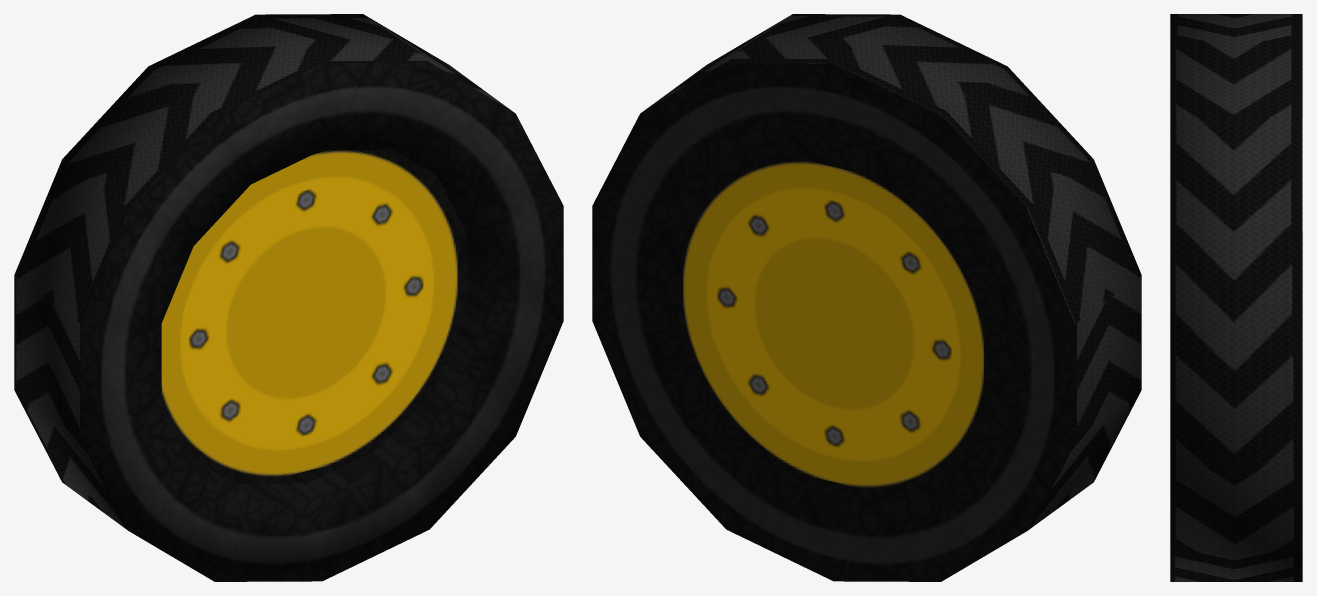
File: Big Yellow.FBX
3 views of the same model, side by side, from view 1: azimuth 30°, elevation 25°; view 2: azimuth 150°, elevation 25°; view 3: azimuth 270°, elevation 25° (orthographic).
Parts seen in each view (by area): view 1: Circle; view 2: Circle; view 3: Circle.
Boxes of the visible parts, x1,y1,x2,y2 form: Circle: (14, 14, 563, 581); Circle: (592, 14, 1141, 581); Circle: (1170, 14, 1302, 581).
Size of the model in its own units: 76.77 by 78.74 by 18.34.
Materials: 1 (1 with a texture image).
